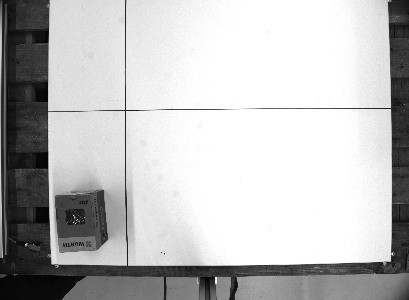b4: (52, 188, 110, 254)
